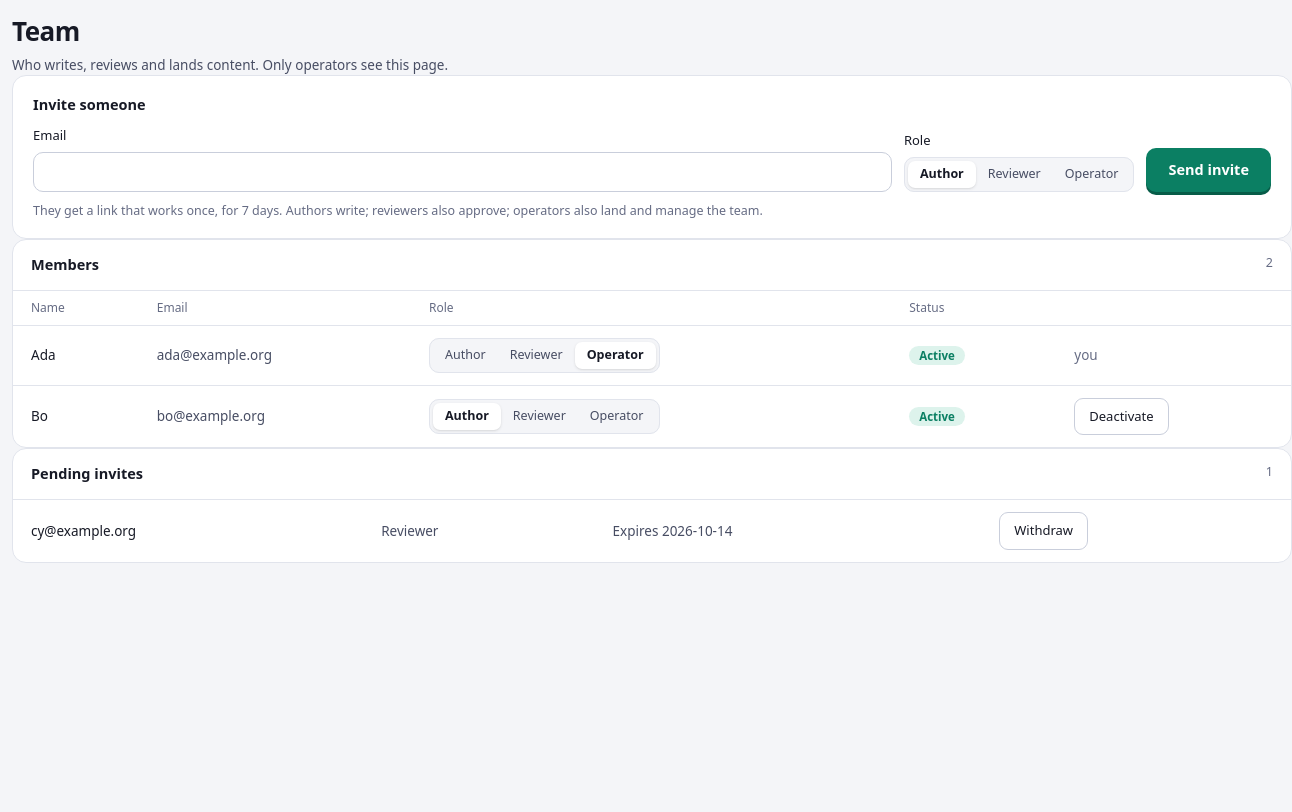
Test: TeamPage › shows why an invite was refused
This screenshot has width=1292, height=812.
Step 1. Type "bo@example.org" into the field labelled "Email" → point(462, 172), box [33, 152, 892, 192]
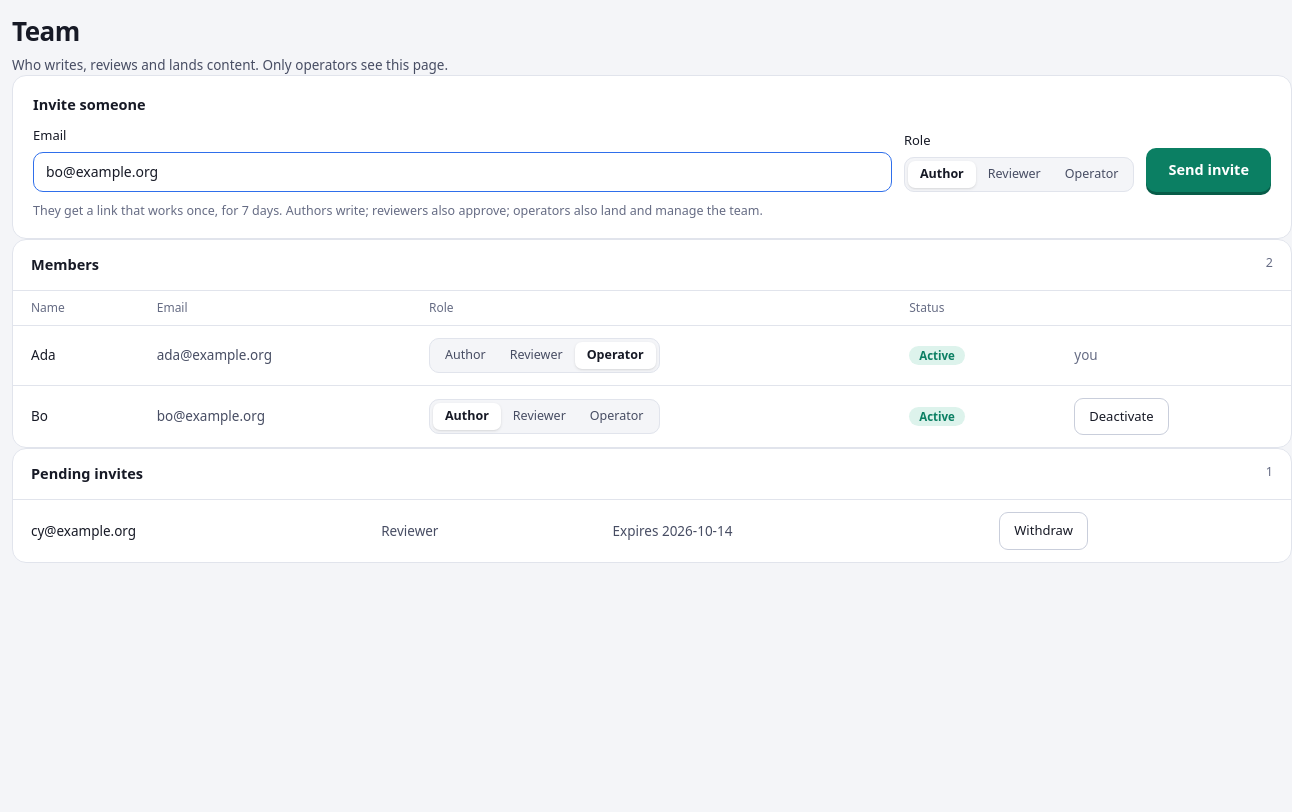
Step 2. Click the button "Send invite" → point(1209, 170), box [1146, 148, 1271, 192]
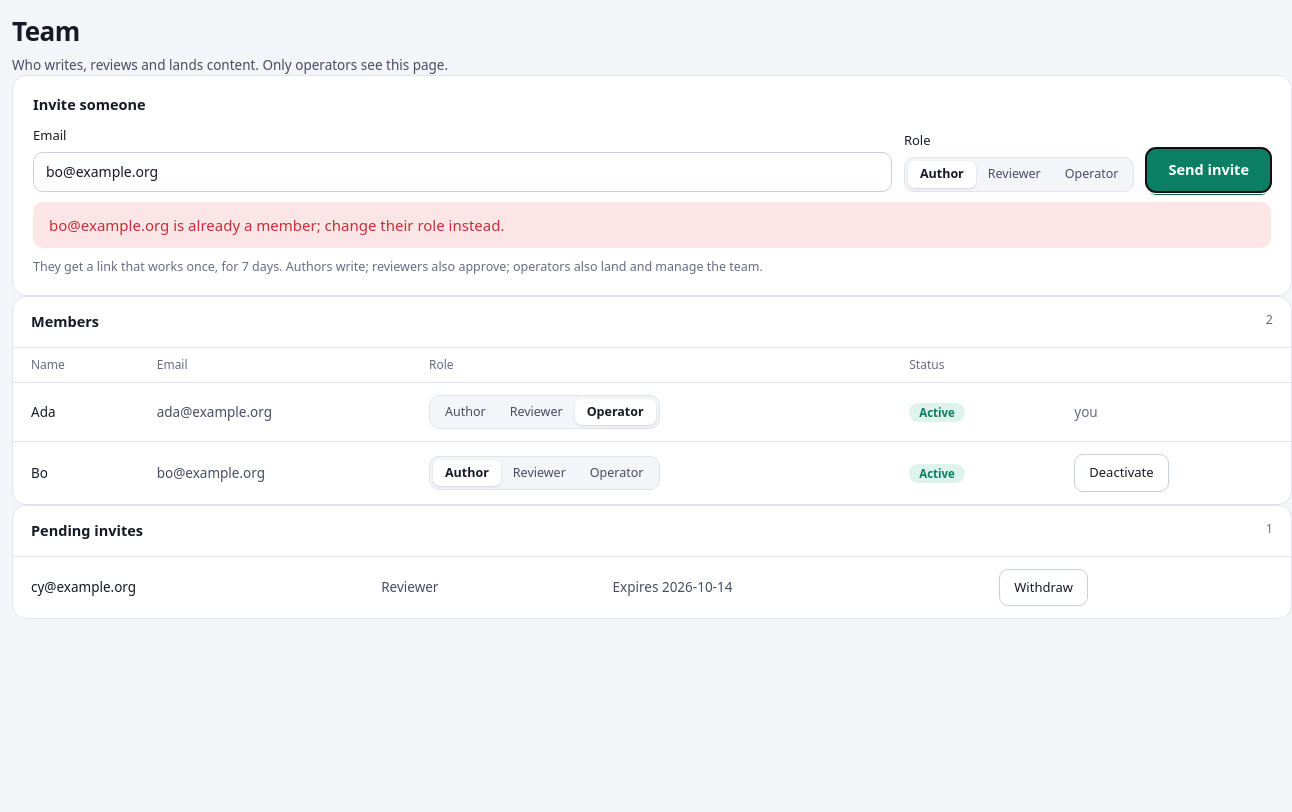
Expected: the text "bo@example.org is already a member; change their role instead." is shown, [33, 202, 1271, 248]
